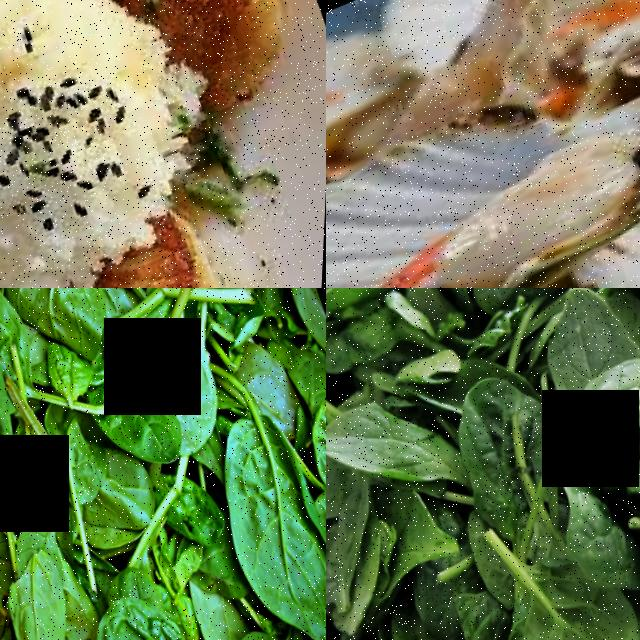sea scallops: (10, 241, 251, 288)
spinach: (195, 408, 326, 640), (340, 369, 469, 517), (487, 547, 640, 640), (526, 288, 640, 397), (0, 288, 49, 523), (0, 288, 117, 372), (99, 394, 197, 489), (0, 551, 97, 640), (568, 339, 640, 449), (85, 588, 212, 640)
